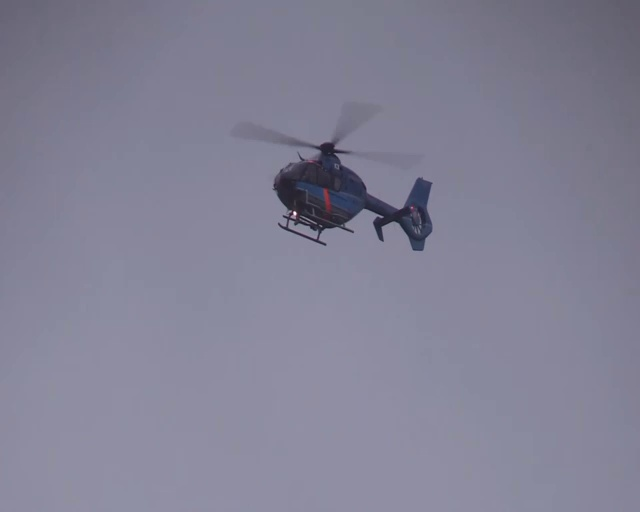HELICOPTER: (227, 100, 433, 248)
